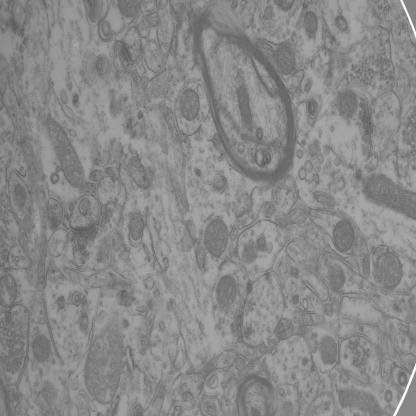mitochondria: (83, 317, 129, 407), (44, 110, 88, 195), (363, 173, 416, 223), (203, 214, 231, 261), (375, 249, 403, 294), (273, 40, 298, 80), (332, 216, 356, 257), (215, 274, 239, 312), (28, 333, 53, 366), (179, 87, 201, 124), (335, 91, 359, 123), (319, 334, 338, 370), (129, 211, 143, 243)
